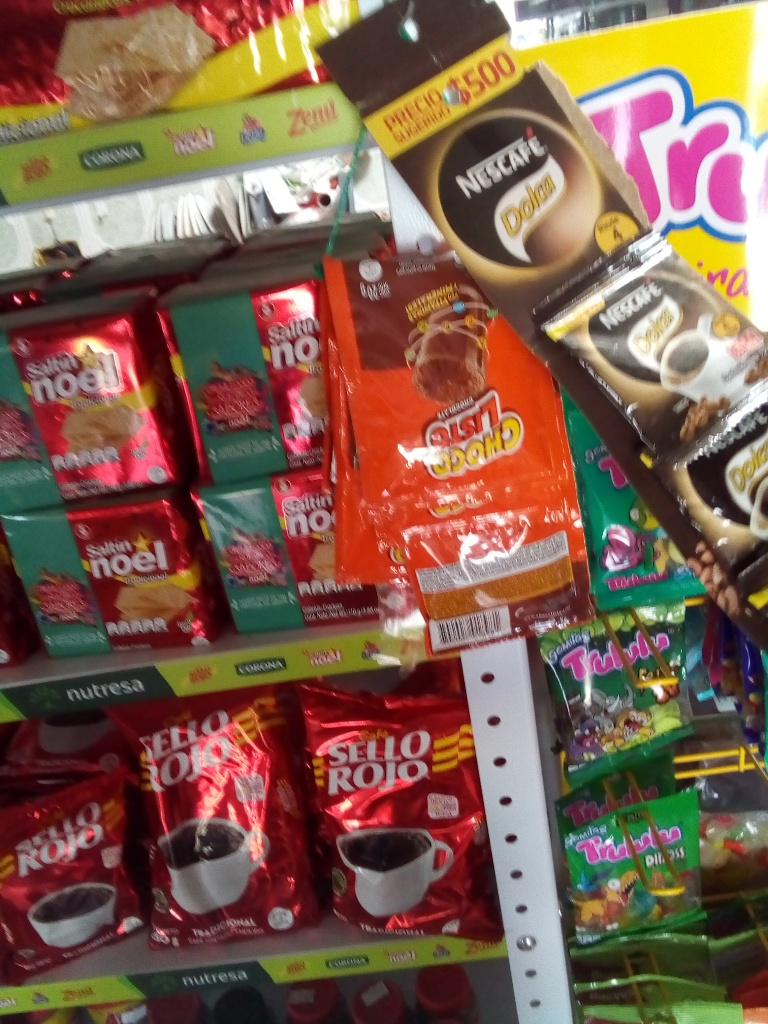COL0170103SOB02000: (332, 257, 588, 528)
